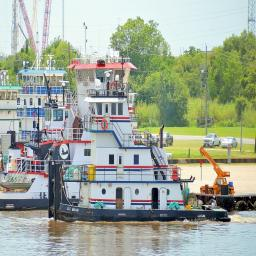tugboat: (46, 68, 234, 231)
